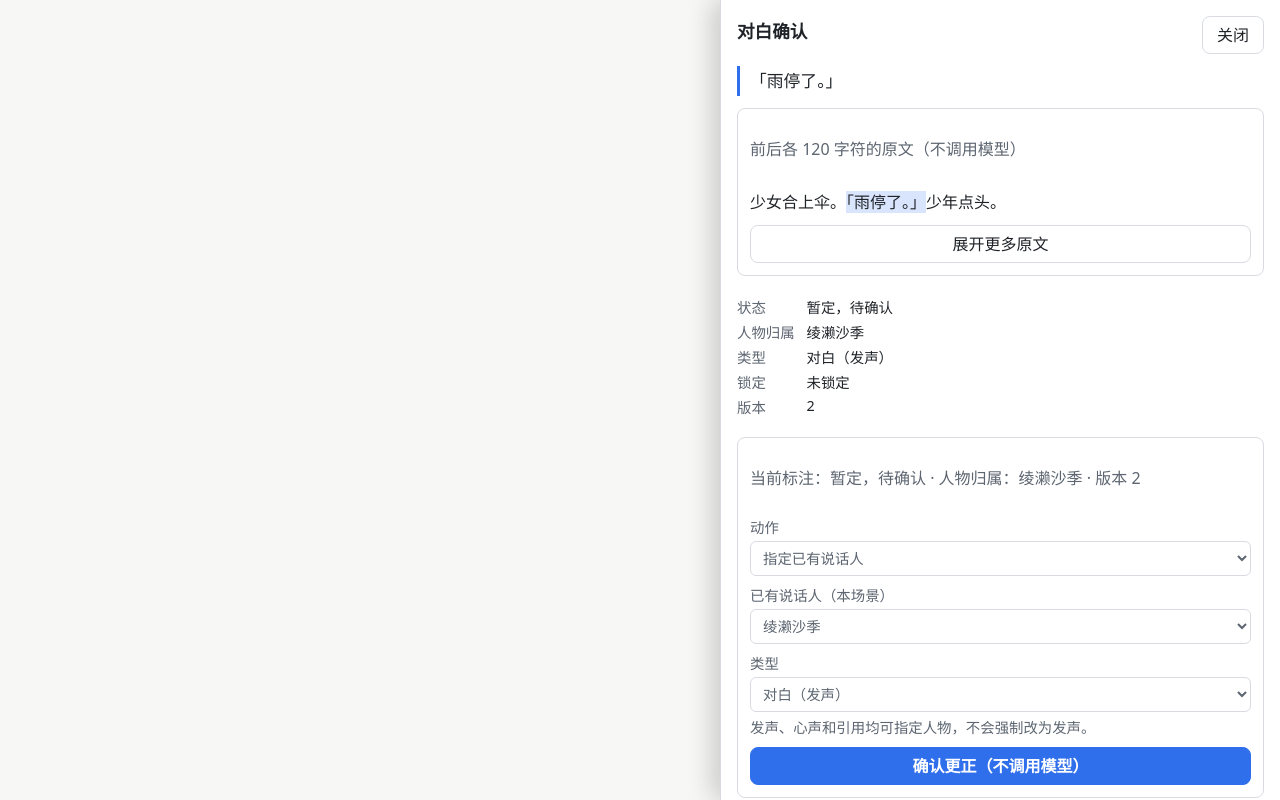
Test: QuoteDetailDrawer › 旧版本冲突时提示并刷新，不静默失败
Check: the text with test id "drawer-quote" is shown, box [737,66,1264,96]
Click the button with test id "correction-submit". click: (1000, 766)
box: [750,747,1251,785]
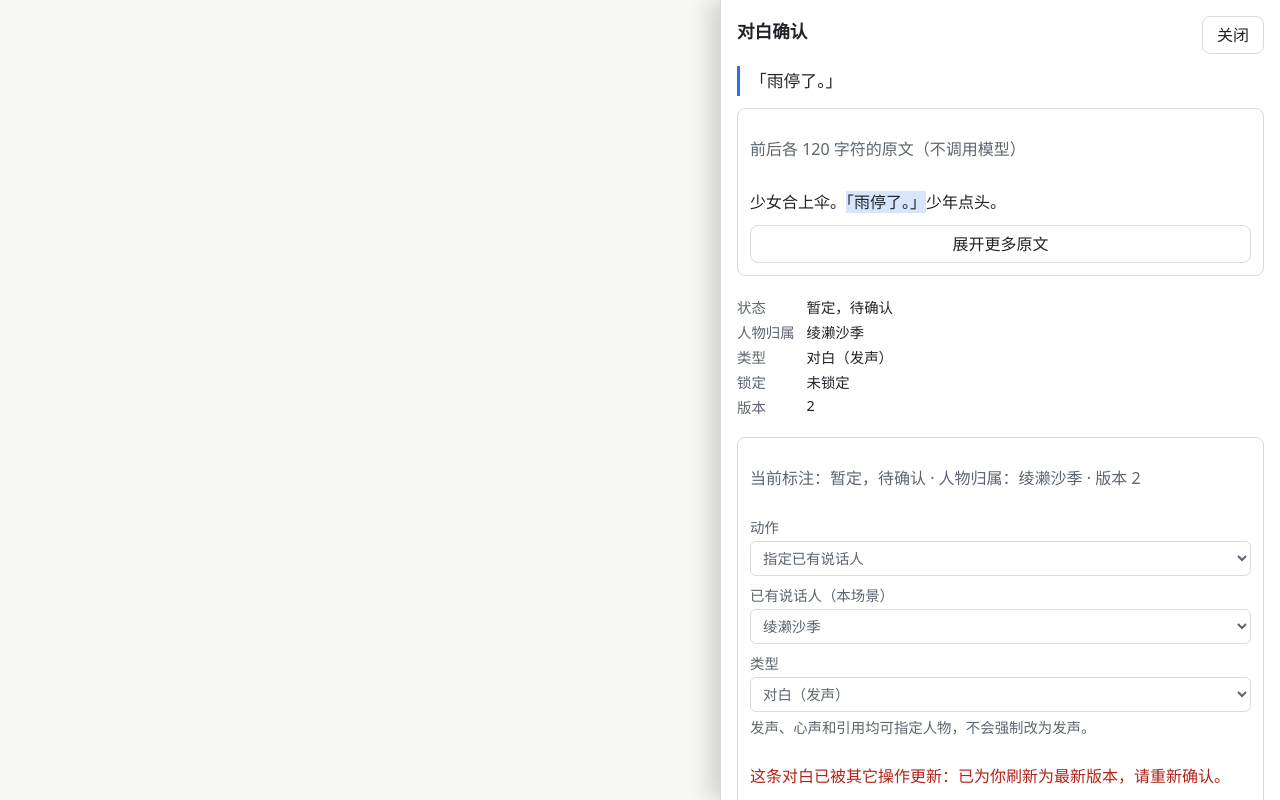
Check: the text with test id "correction-error" shows "已被其它操作更新", box [750,765,1230,787]
